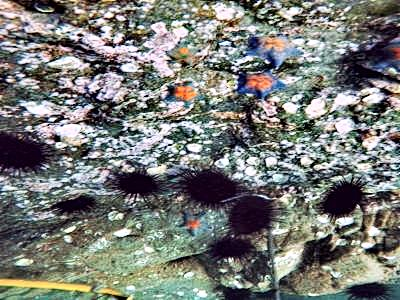urchin: (178, 168, 232, 206), (2, 129, 43, 169), (319, 176, 359, 213), (229, 197, 270, 233), (118, 170, 159, 198), (208, 237, 249, 254), (58, 196, 91, 210)
